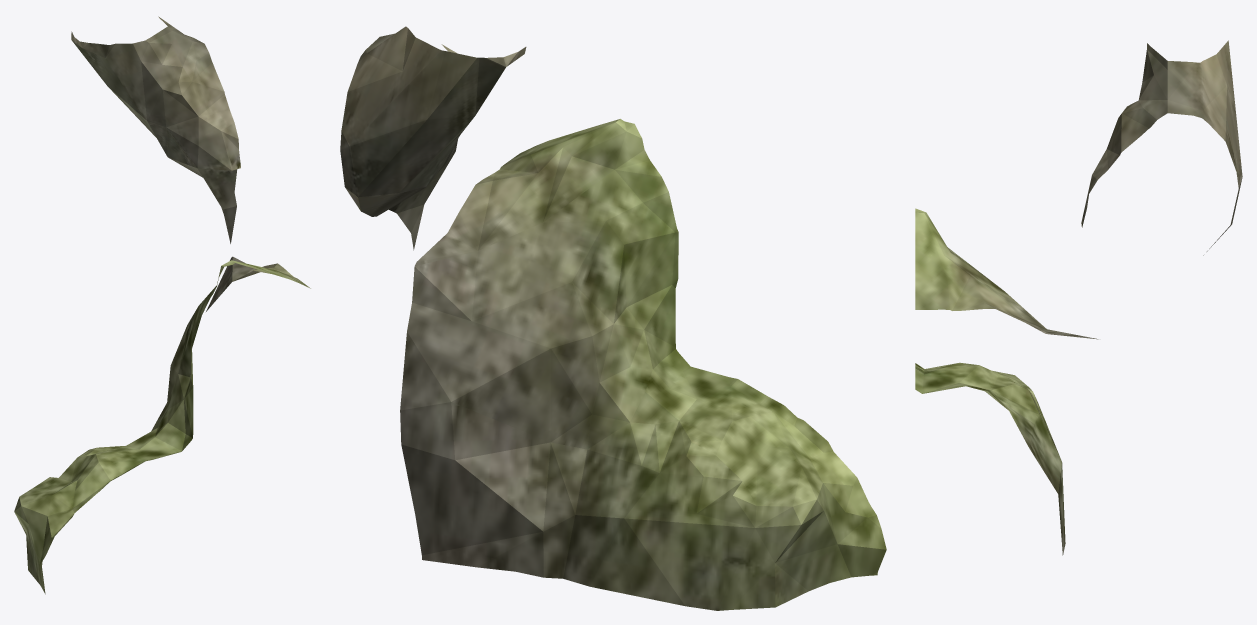
3 renders of one model, left to right at view 1: azimuth 30°, elevation 25°; view 2: azimuth 150°, elevation 25°; view 3: azimuth 270°, elevation 25°, orthographic. The views are drawn at different scales.
Size of the model in its own units: 1.92 by 2.95 by 1.65.
Materials: 2 (2 with a texture image).
